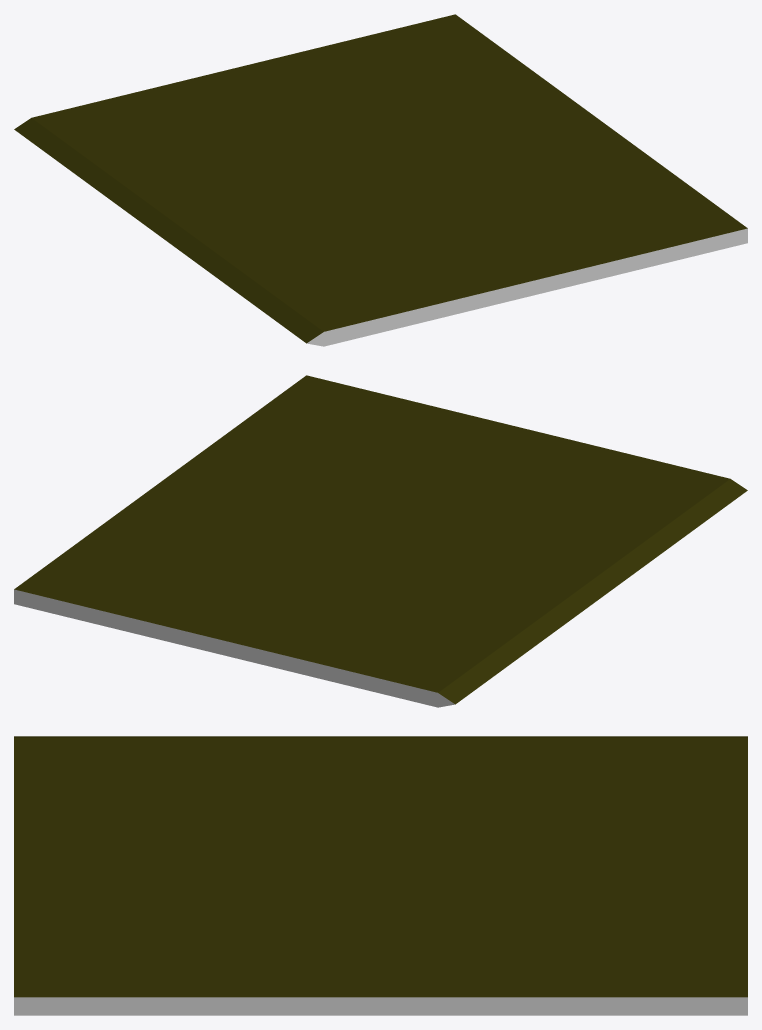
File: GamesE_E03_Pasaporte.fbx
3 views of the same model, one above another, from view 1: azimuth 30°, elevation 25°; view 2: azimuth 150°, elevation 25°; view 3: azimuth 270°, elevation 25° (orthographic). The views are drawn at different scales.
Parts seen in each view (by area): view 1: Pasaporte; view 2: Pasaporte; view 3: Pasaporte.
Part boxes in pixels (x1,y1,x2,y2): Pasaporte: (14,14,747,346); Pasaporte: (14,375,747,707); Pasaporte: (14,736,747,1015).
Bounding box in the file's own units: 7.46 × 0.2388 × 8.56.
